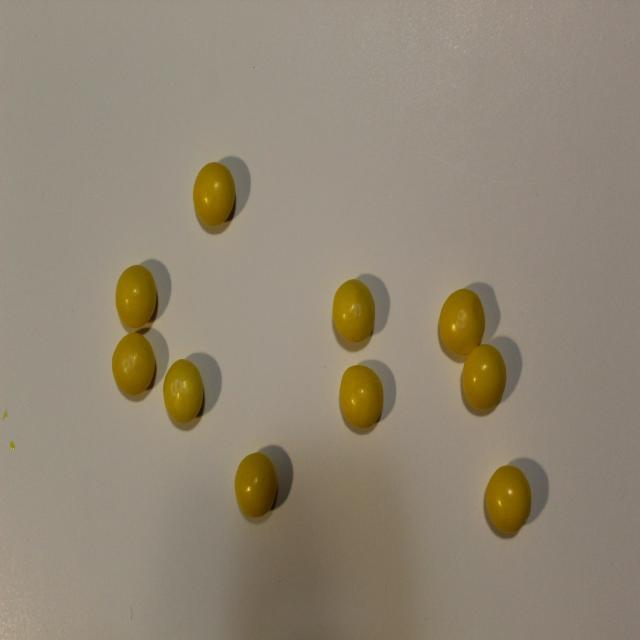smartie: (440, 288, 486, 355), (487, 466, 532, 533), (463, 344, 507, 410), (234, 453, 277, 518), (340, 365, 384, 428), (111, 333, 155, 395), (193, 161, 235, 225), (333, 279, 375, 342), (115, 264, 156, 328), (163, 359, 203, 423)
